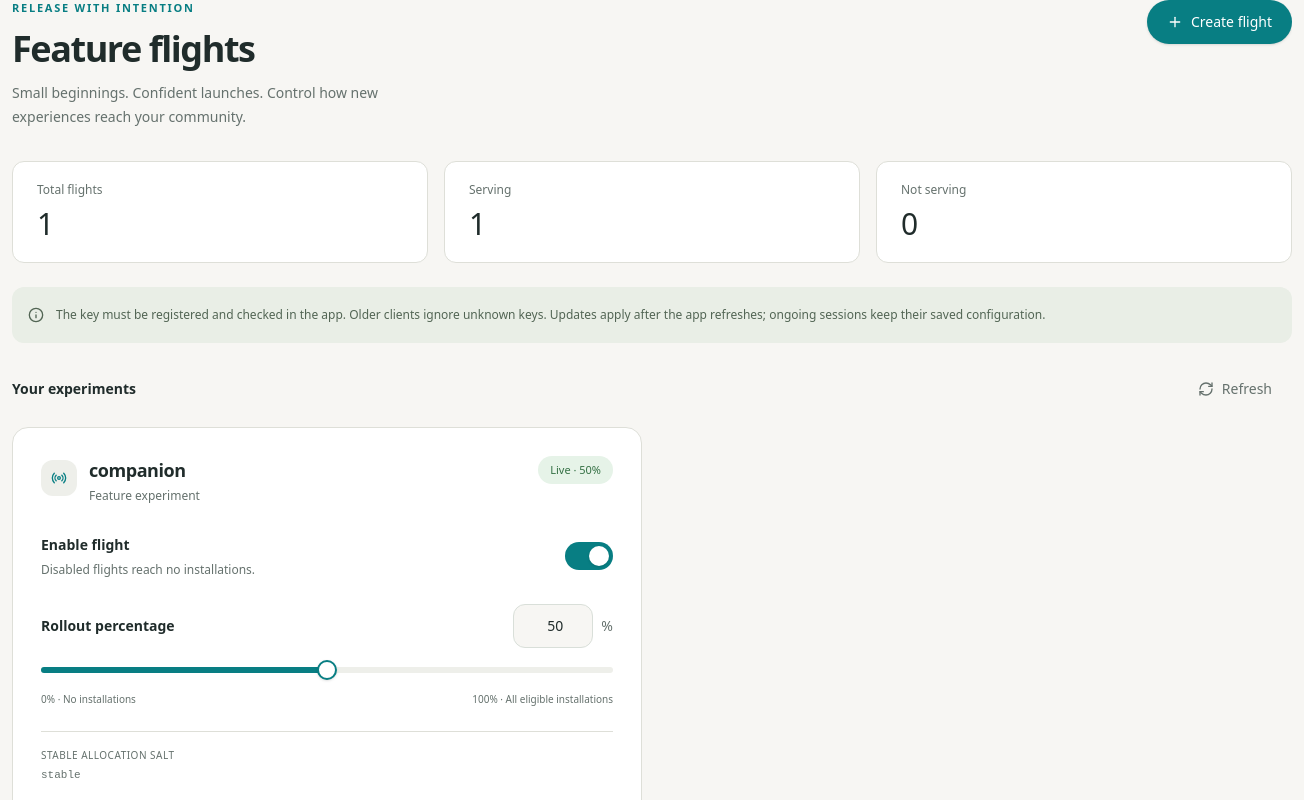
Test: requires reconciliation after uncertain saves
Expected: the heading "companion" is shown, x1=89 y1=456 x2=200 y2=484
Replace the text in the number field with "10": point(553, 626) x1=513 y1=604 x2=593 y2=648
(page scrolled)
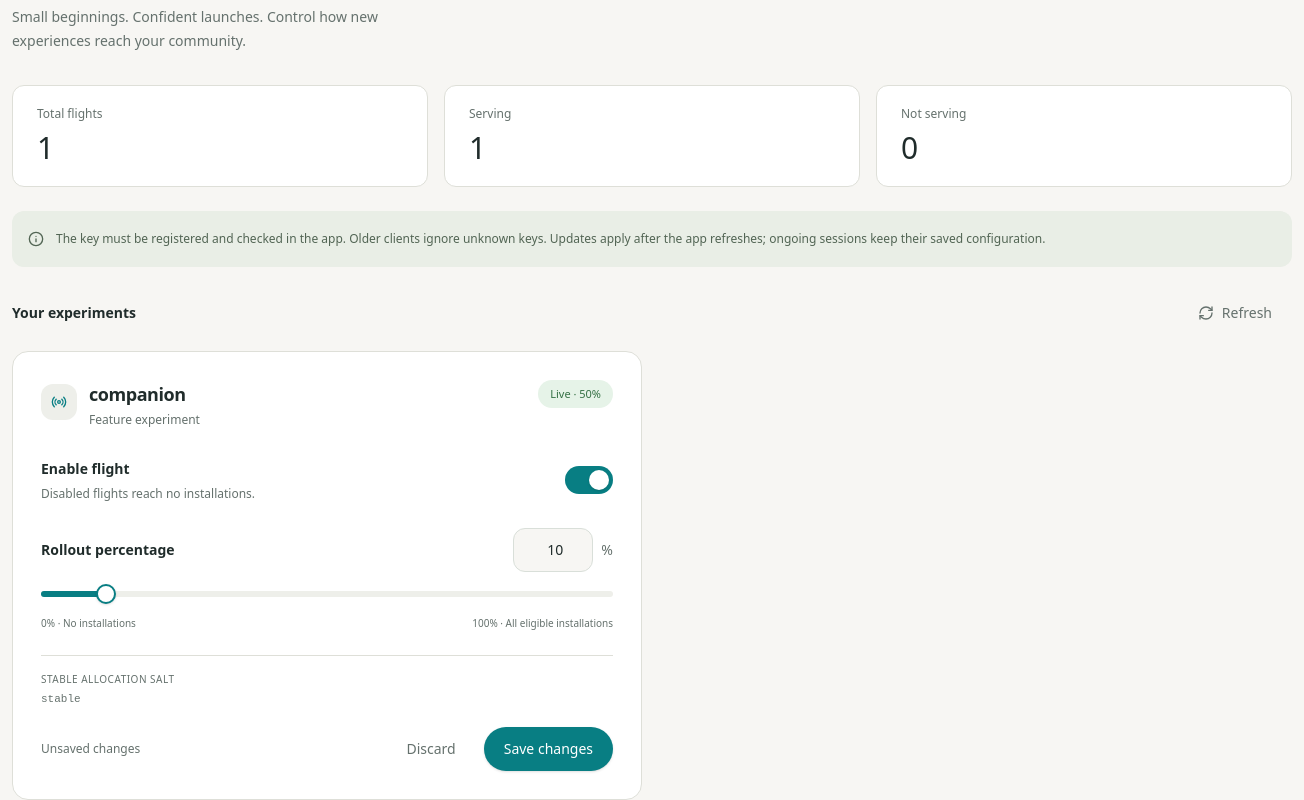
Click the button "Save changes": point(548, 749) x1=484 y1=727 x2=613 y2=771
(page scrolled)
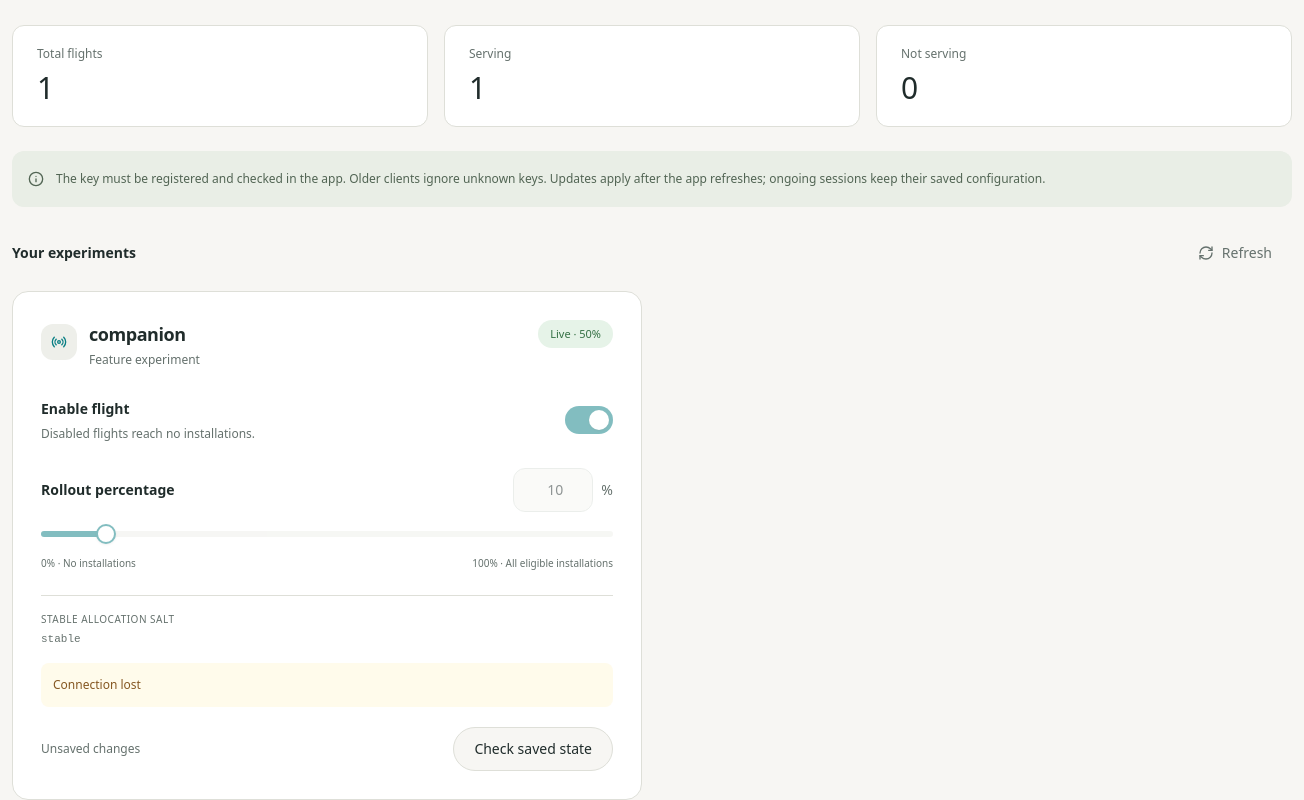
Expected: the number field is disabled, x1=513 y1=468 x2=593 y2=512
Click the button "Check saved state": point(533, 749) x1=453 y1=727 x2=613 y2=771
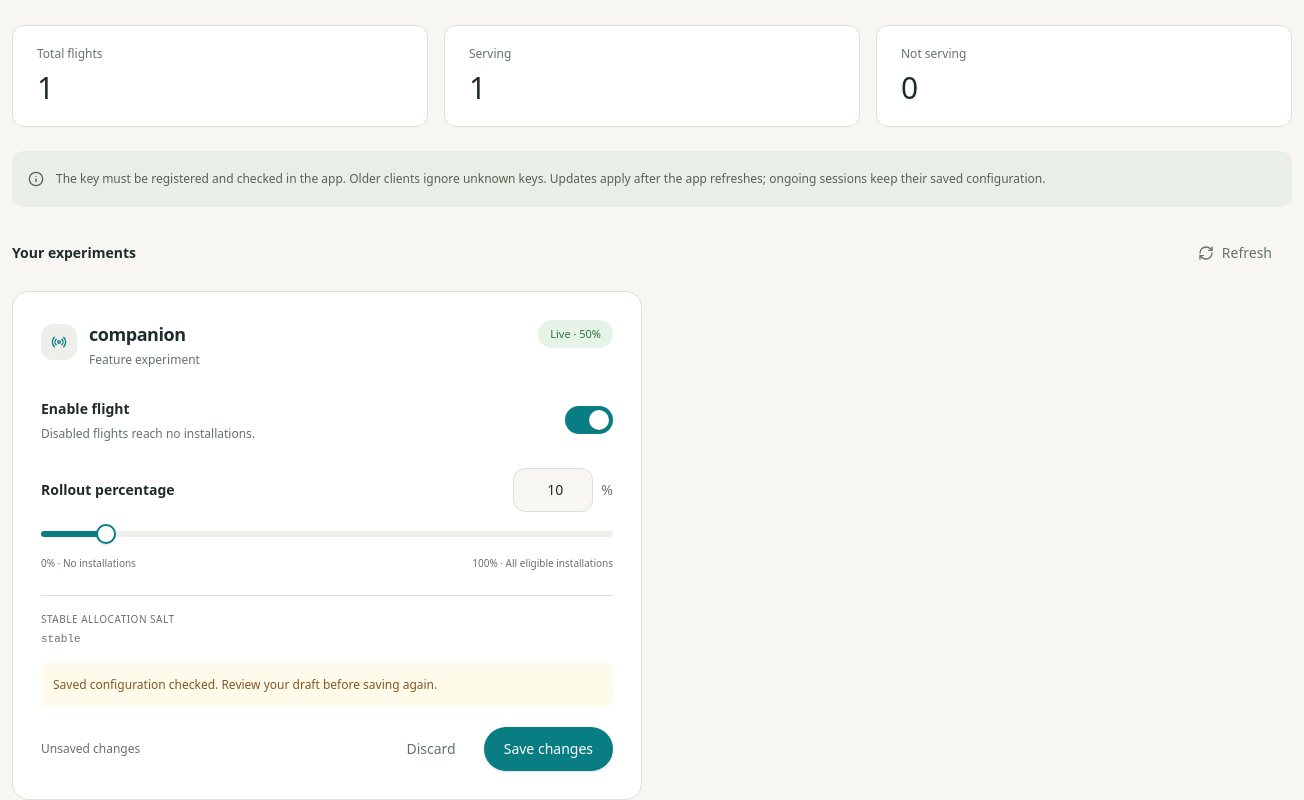
Result: the text "Saved configuration checked. Review your draft before saving again." is shown at x1=41 y1=663 x2=613 y2=707
Result: the button "Save changes" is enabled at x1=484 y1=727 x2=613 y2=771
